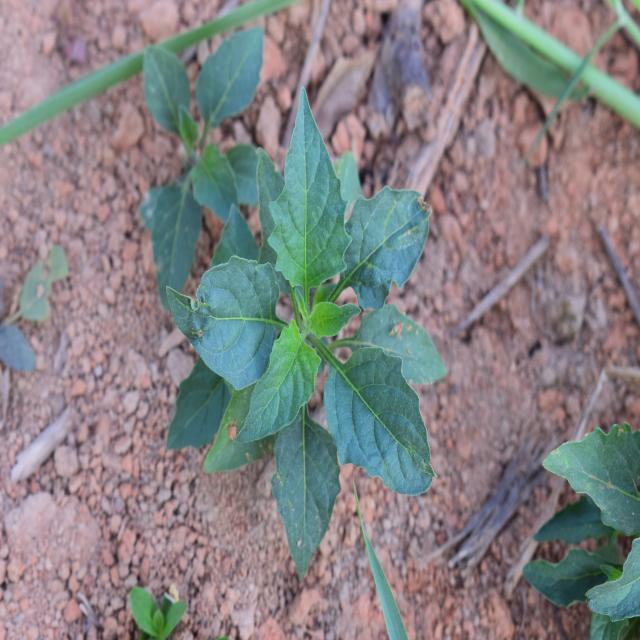Black_nightshade: (197, 139, 437, 499)
